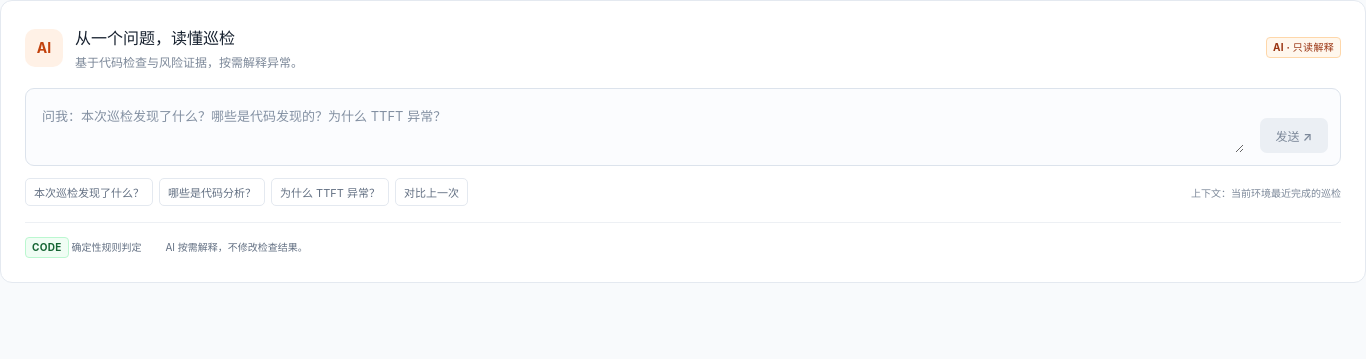
Test case: keeps the question available to retry after a provider failure
Type "解释结果" into the text box at (641, 127), box [38,101,1244,153]
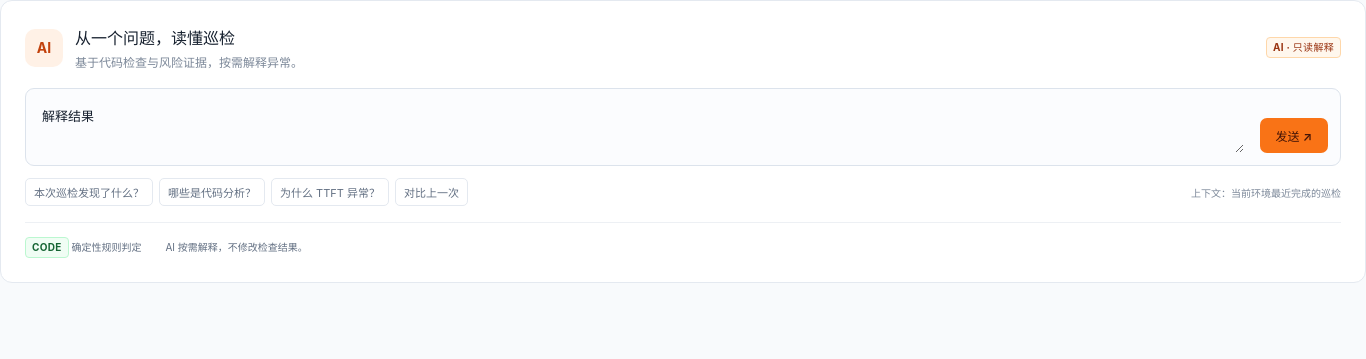
Click the button with aria-label "发送问题" at (1294, 136), box [1260,118,1328,153]
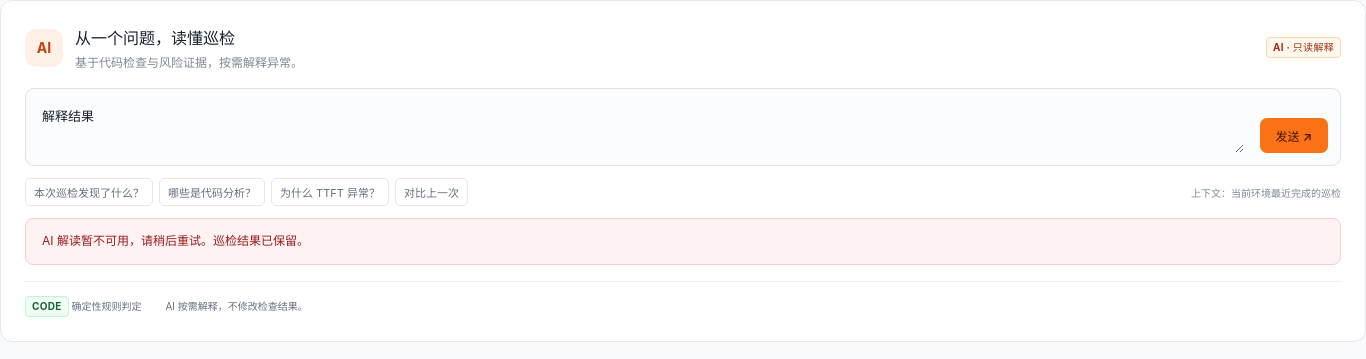
expect the button with aria-label "发送问题" is enabled: met, box [1260,118,1328,153]
expect the message "AI 解读暂不可用，请稍后重试。巡检结果已保留。" is shown: met, box [25,218,1341,265]
